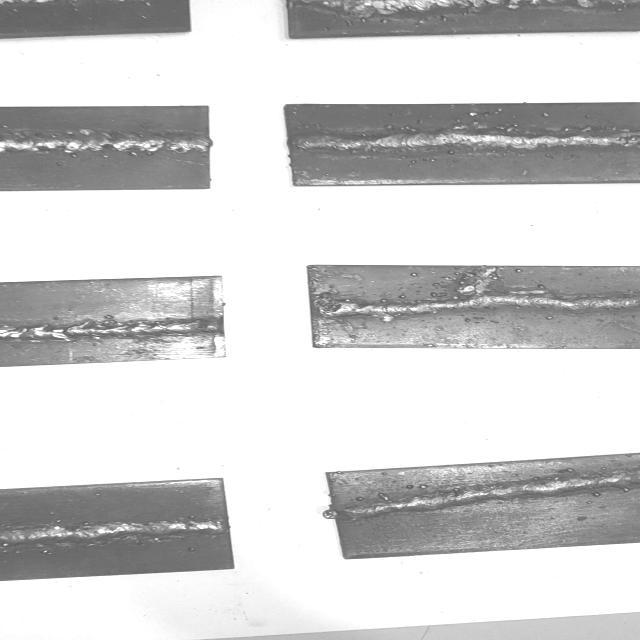Defect: (307, 0, 640, 17), (456, 266, 514, 316)
Welding Line: (340, 468, 640, 521), (291, 126, 640, 151), (314, 292, 640, 316), (0, 515, 229, 549), (0, 315, 223, 343), (0, 133, 211, 155)
Workpiece: (319, 448, 640, 567), (277, 98, 640, 187), (300, 261, 640, 351), (0, 475, 243, 582), (0, 274, 235, 368), (0, 100, 218, 194), (279, 0, 640, 43), (0, 0, 203, 43)
